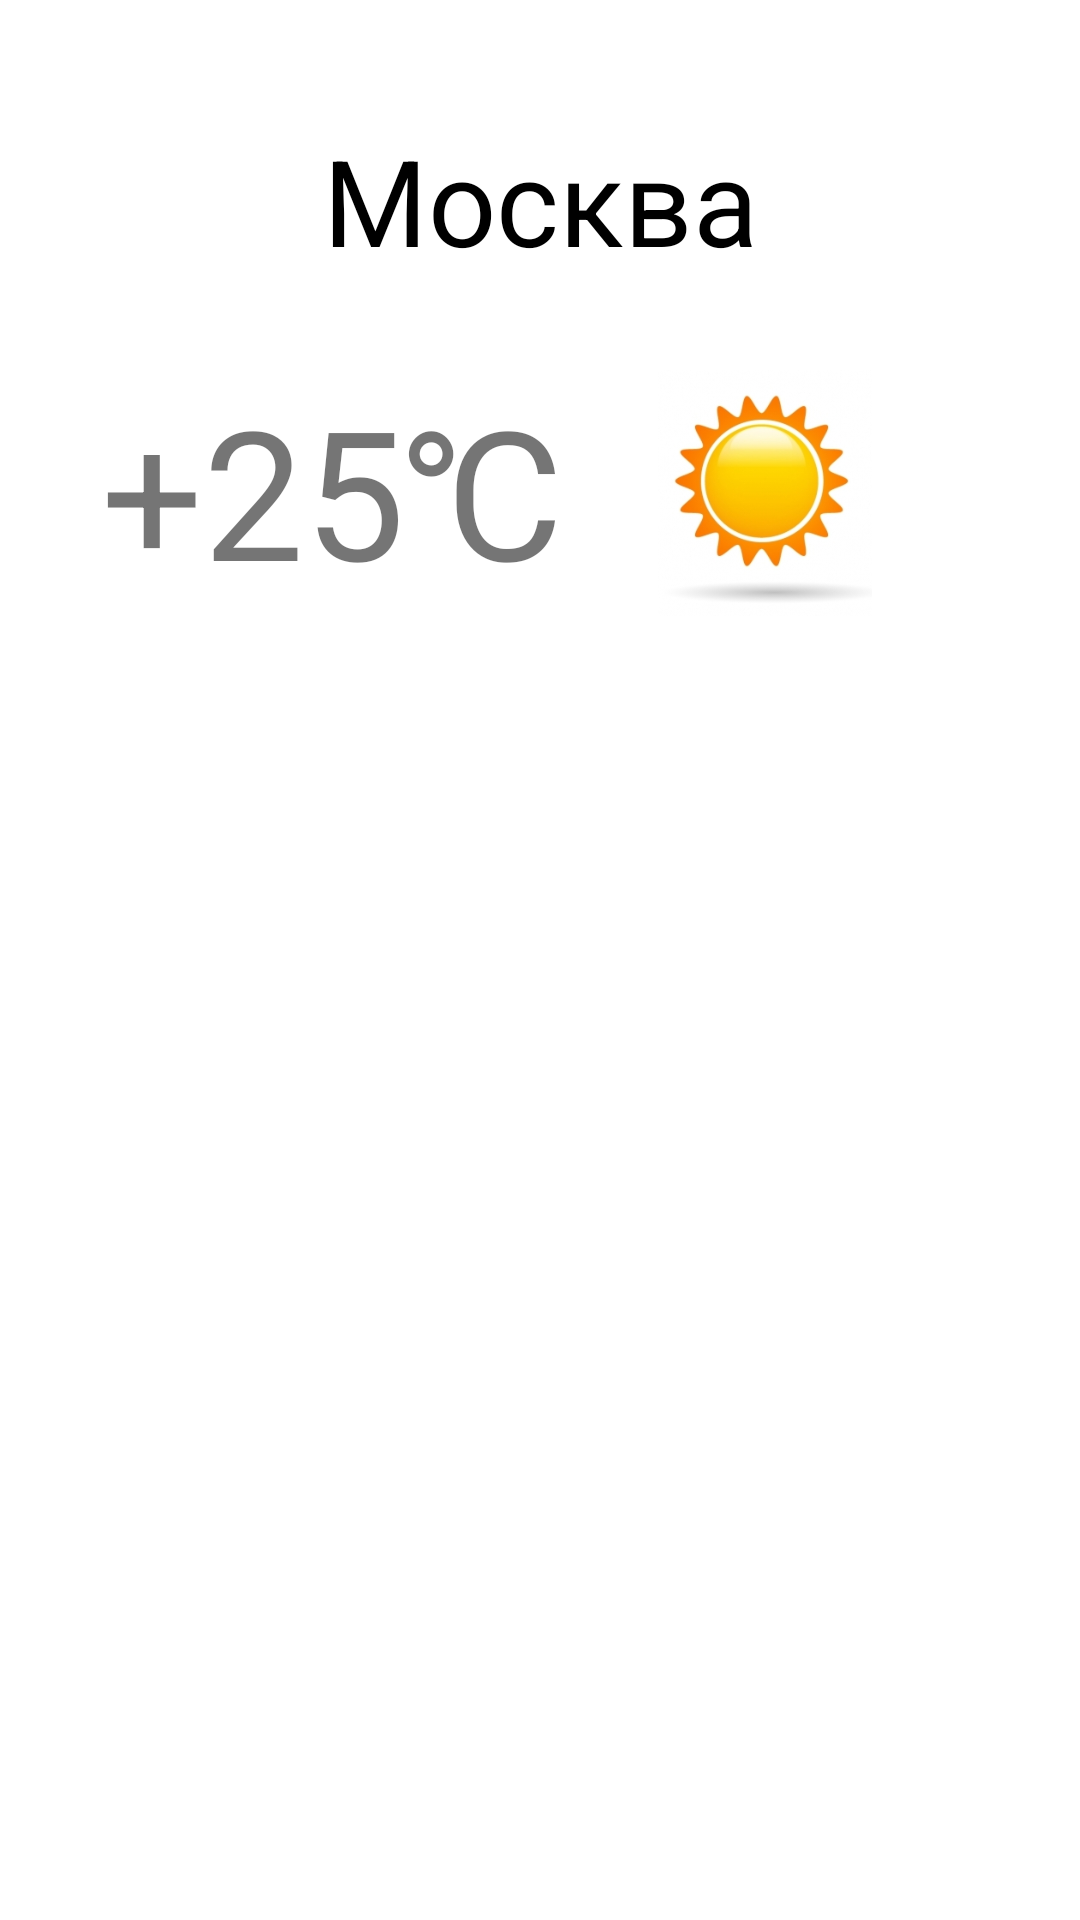

Named icons in this screenshot (1080 × 1920) and their centers, point (x, y):
sun: point (761, 497)
